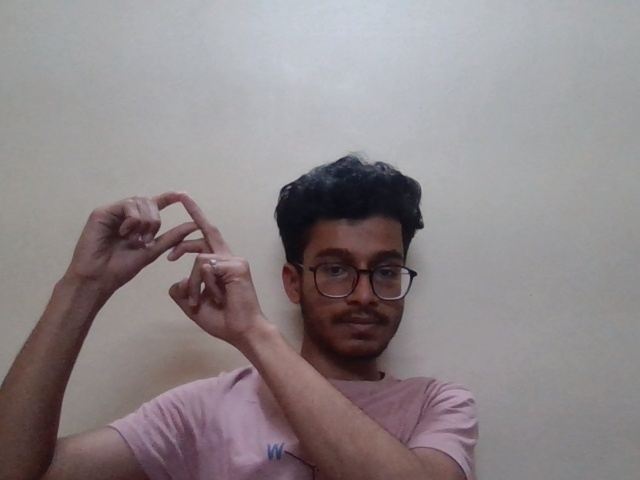R: (57, 186, 270, 344)
